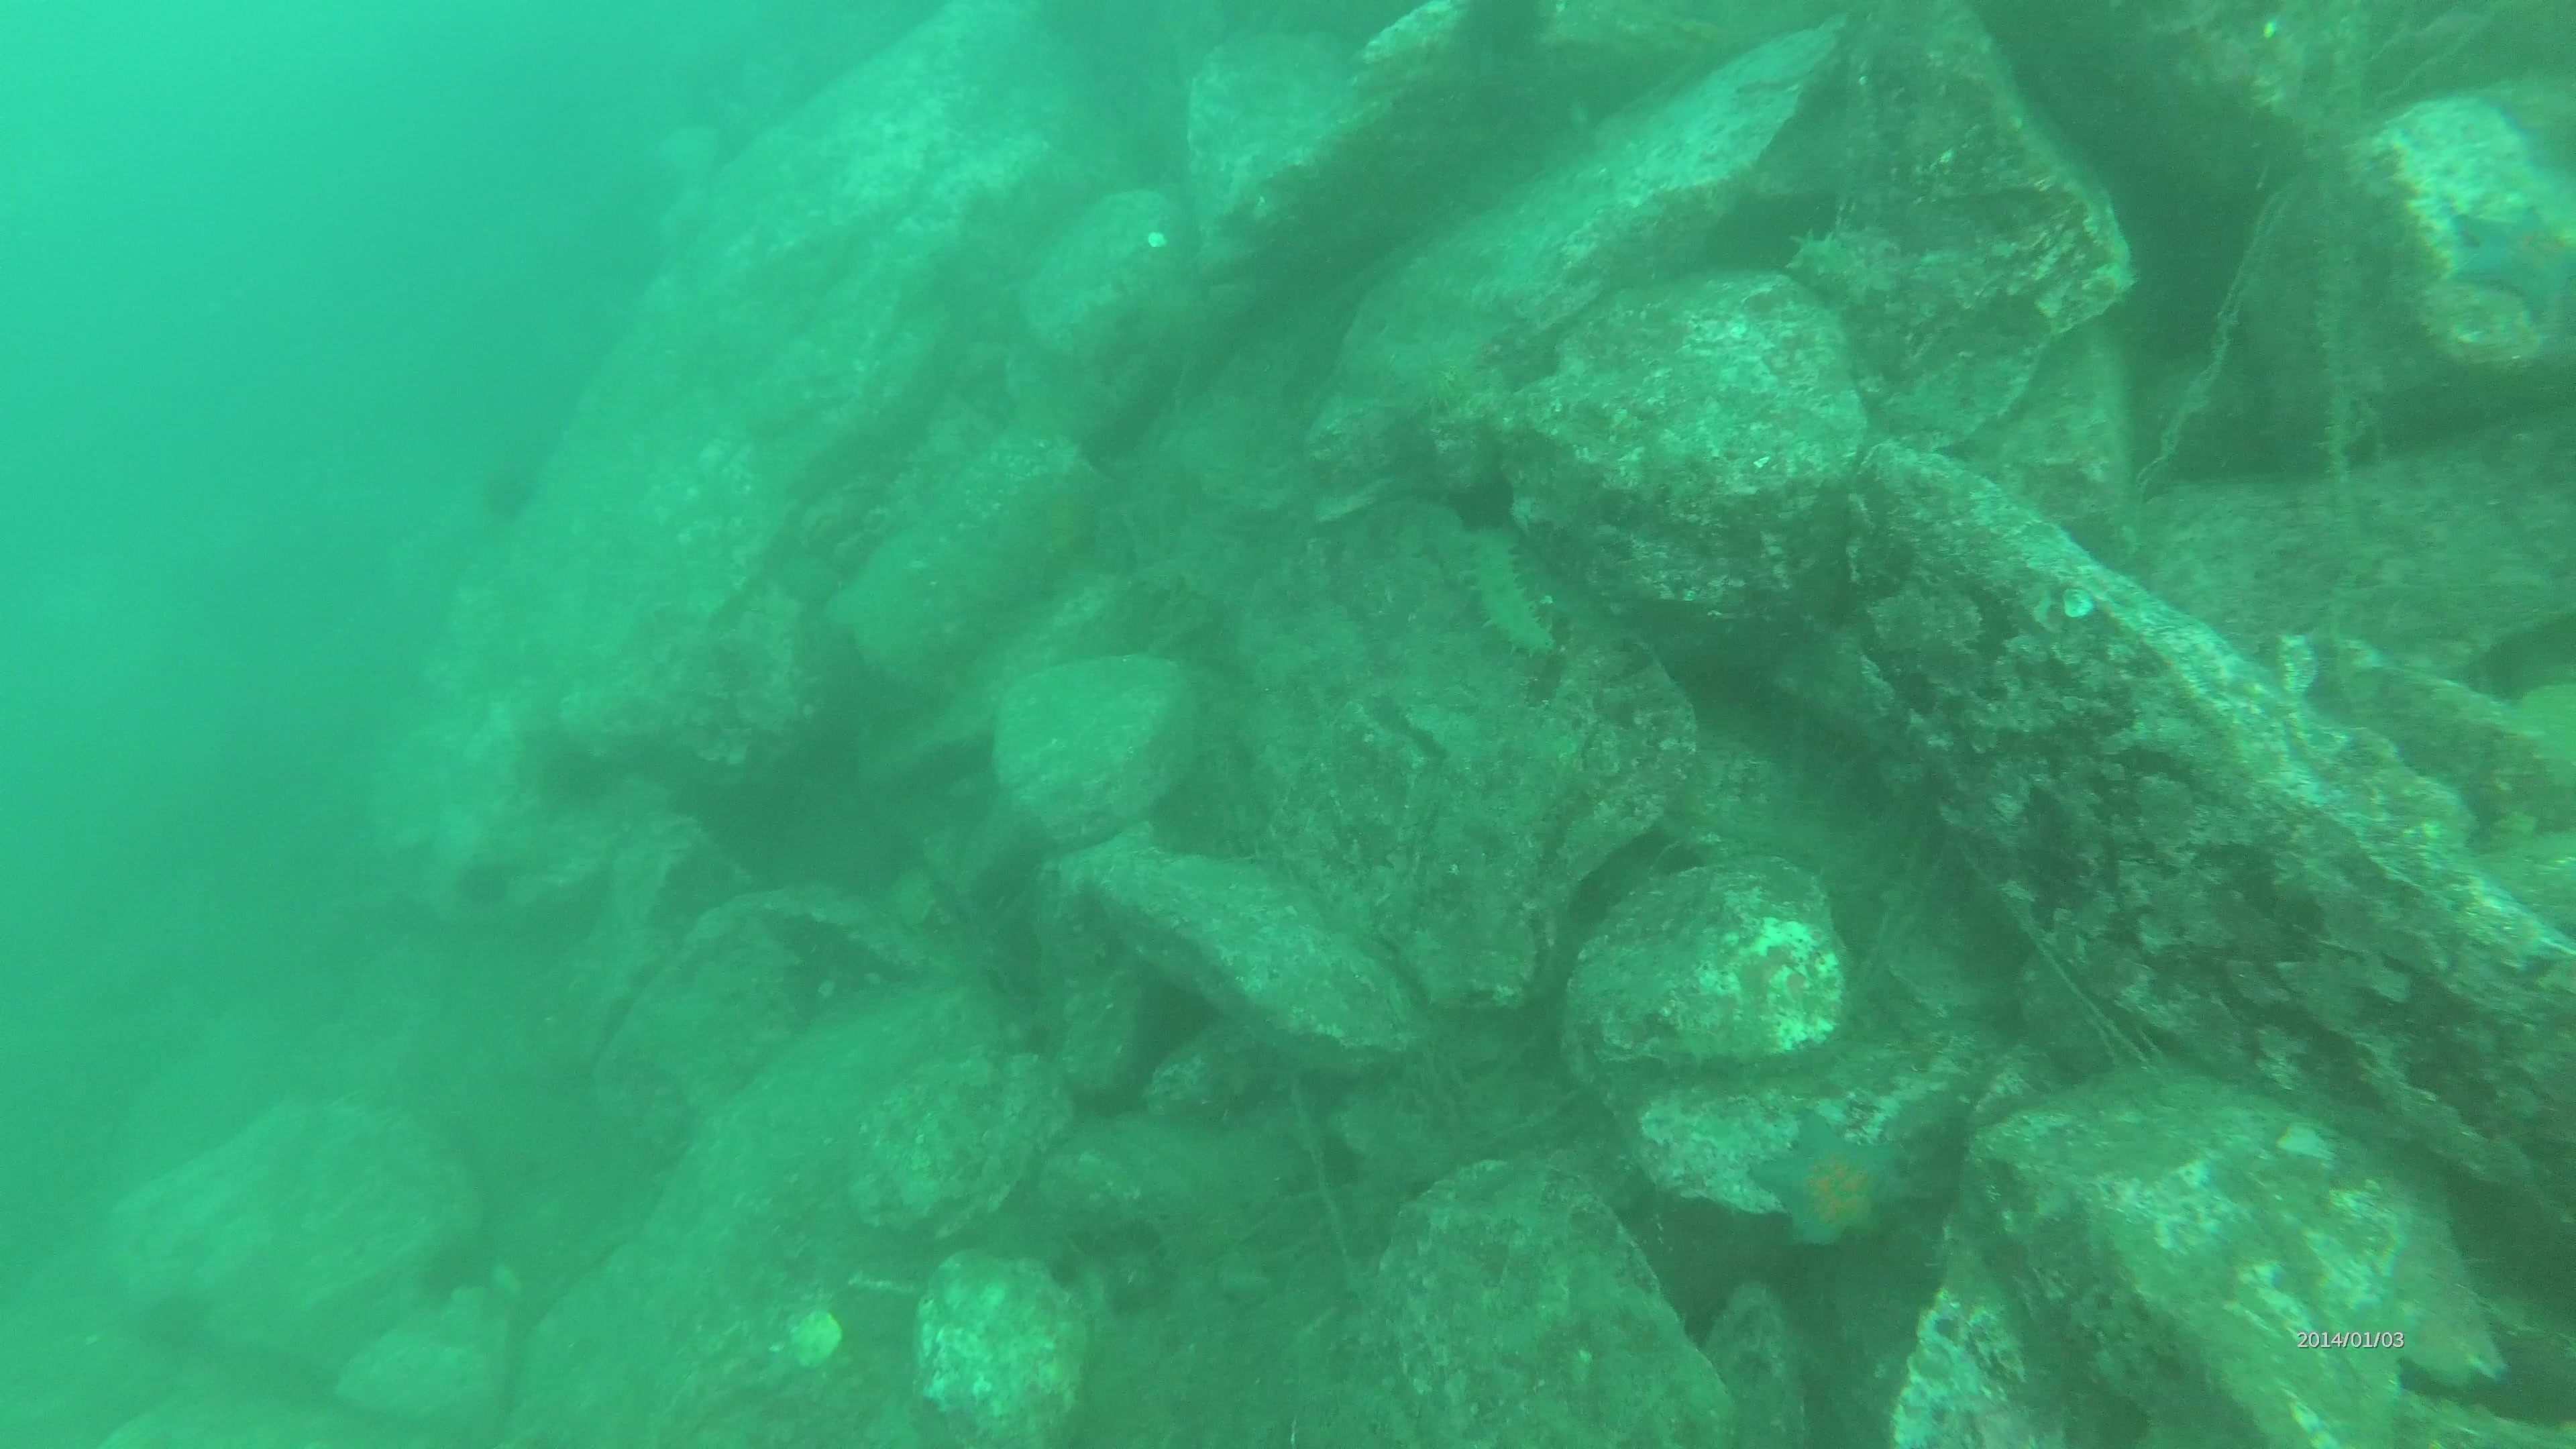echinus: (1440, 0, 1564, 73), (472, 451, 547, 527)
holothurian: (1449, 515, 1564, 669), (1776, 214, 1918, 324)
starfish: (1746, 1102, 1918, 1258), (2445, 195, 2574, 347)
